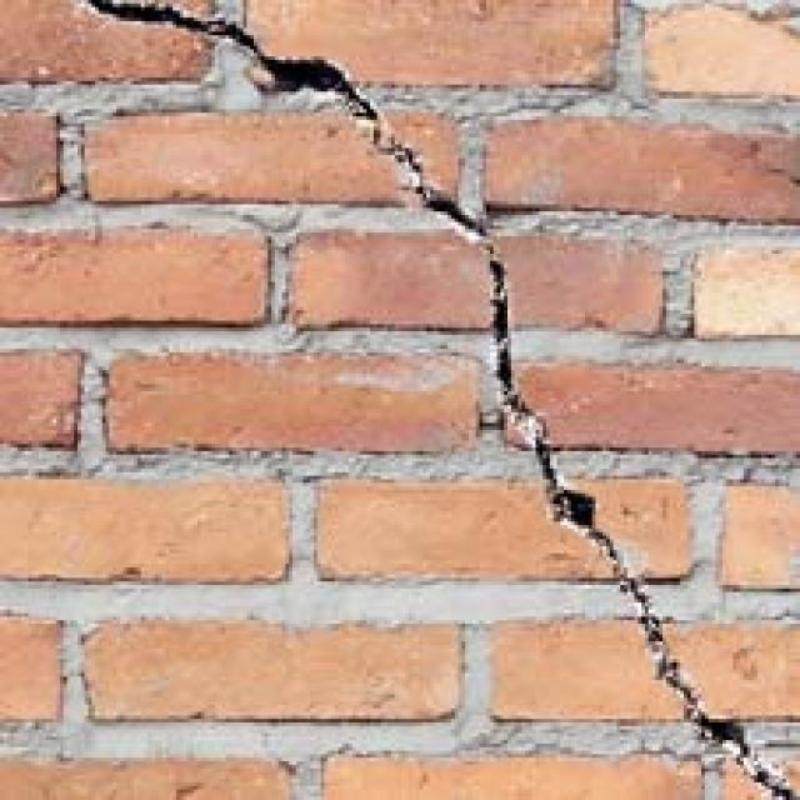pothole: (490, 245, 800, 799), (89, 1, 488, 237)
